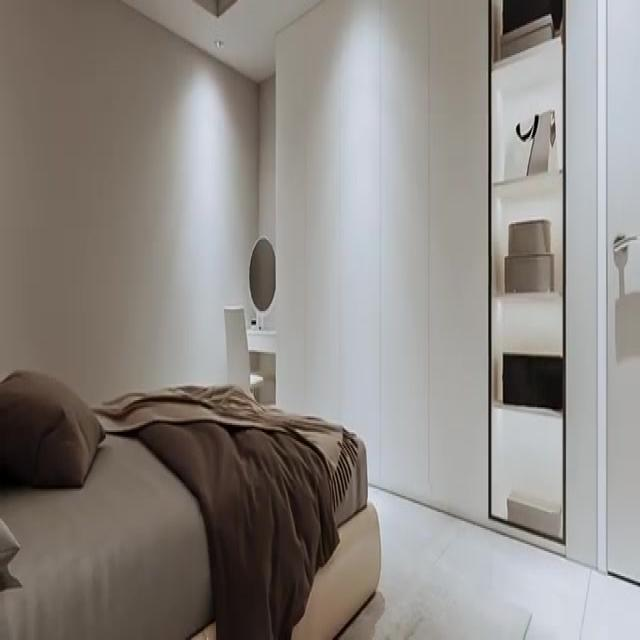obstacle: (0, 381, 381, 638), (223, 304, 264, 402)
